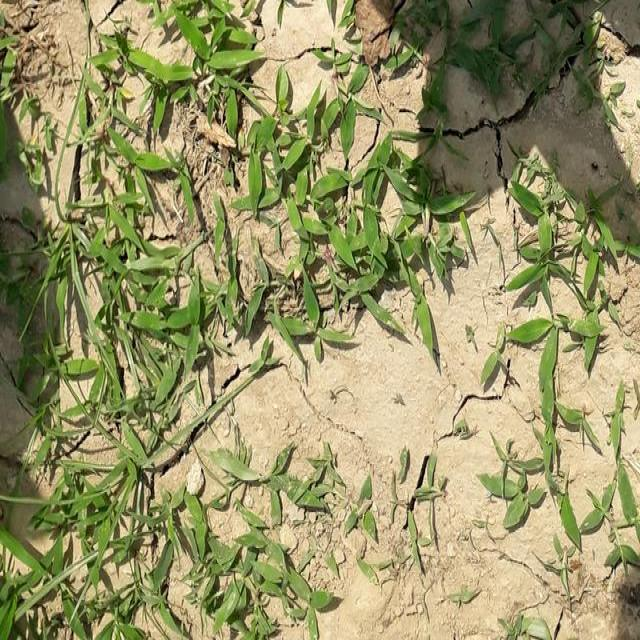weed: (58, 3, 460, 345), (0, 359, 288, 640), (500, 154, 590, 549)
